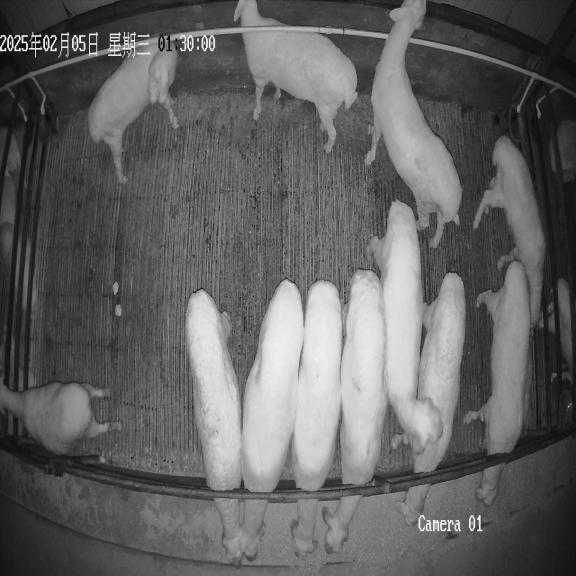eating: (235, 279, 303, 560), (322, 270, 387, 553), (396, 272, 466, 525), (464, 260, 530, 506), (185, 289, 243, 563), (290, 280, 342, 558)
stand: (365, 0, 462, 248), (234, 0, 357, 152), (369, 200, 442, 454), (473, 136, 545, 326), (87, 37, 178, 183), (0, 380, 122, 454)
